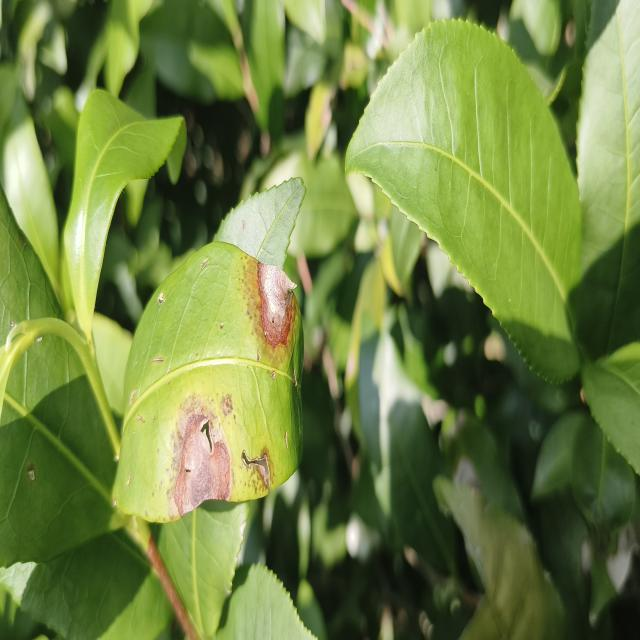Leaf: (346, 21, 581, 381), (113, 242, 303, 522), (64, 90, 183, 337), (0, 334, 120, 564), (356, 312, 455, 573), (572, 0, 640, 359), (434, 476, 565, 640), (159, 501, 249, 638), (141, 0, 244, 103), (1, 114, 59, 293), (0, 191, 63, 351), (263, 152, 356, 258), (571, 420, 635, 546), (215, 178, 305, 267), (582, 342, 640, 474), (214, 565, 315, 640), (243, 0, 285, 141), (531, 412, 587, 499), (102, 0, 152, 96), (305, 81, 335, 159)
